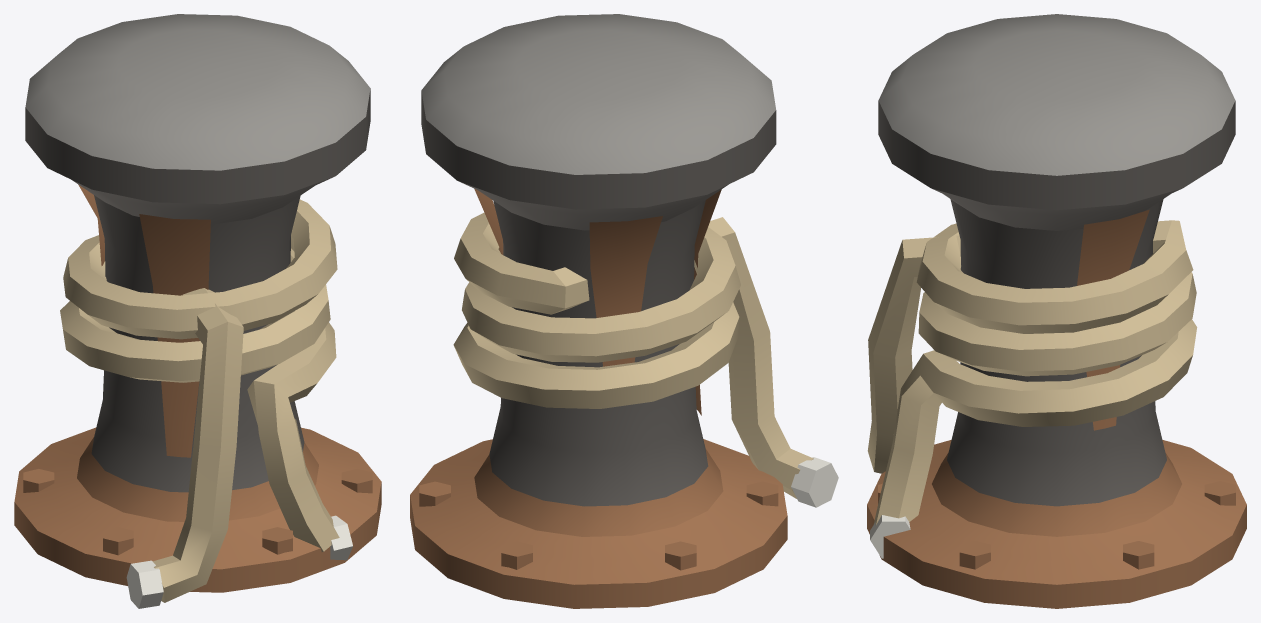
File: bollard.glb
3 views of the same model, side by side, from view 1: azimuth 30°, elevation 25°; view 2: azimuth 150°, elevation 25°; view 3: azimuth 270°, elevation 25° (orthographic). The views are drawn at different scales.
Parts seen in each view (by area): view 1: bollard_body; view 2: bollard_body; view 3: bollard_body.
Boxes of the visible parts, x1=… form: bollard_body: x1=14, y1=14, x2=381, y2=608; bollard_body: x1=410, y1=14, x2=838, y2=608; bollard_body: x1=867, y1=14, x2=1246, y2=608.
Size of what is drawn, in the model's own units: 0.65 by 0.8814 by 0.65.
